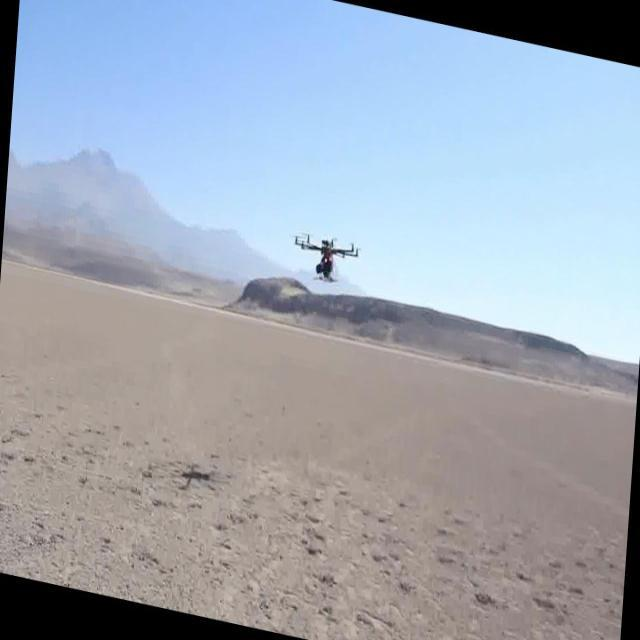drone: (290, 222, 362, 298)
